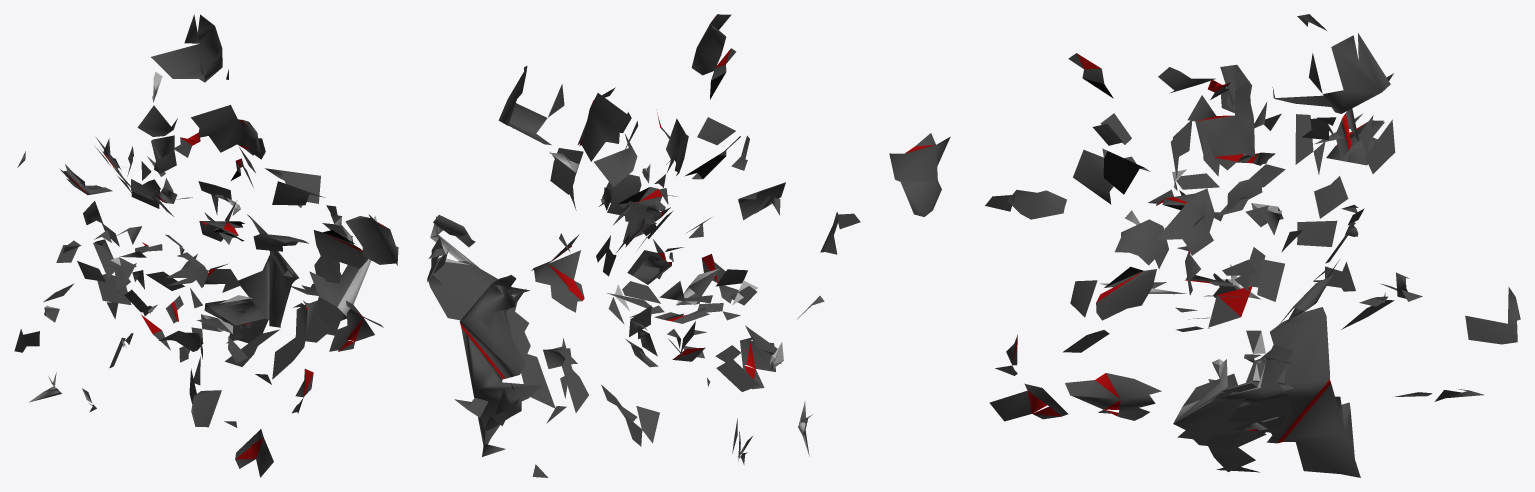
File: spacecraftExplosion_000008.obj
3 renders of one model, left to right at view 1: azimuth 30°, elevation 25°; view 2: azimuth 150°, elevation 25°; view 3: azimuth 270°, elevation 25°, orthographic. The views are drawn at different scales.
Visible parts, largest first — view 1: Cube; view 2: Cube; view 3: Cube.
Boxes of the visible parts, x1,y1,x2,y2 form: Cube: [14, 14, 398, 477]; Cube: [427, 14, 860, 477]; Cube: [889, 14, 1520, 477].
Size of the model in its own units: 11.47 by 11.22 by 14.64.
